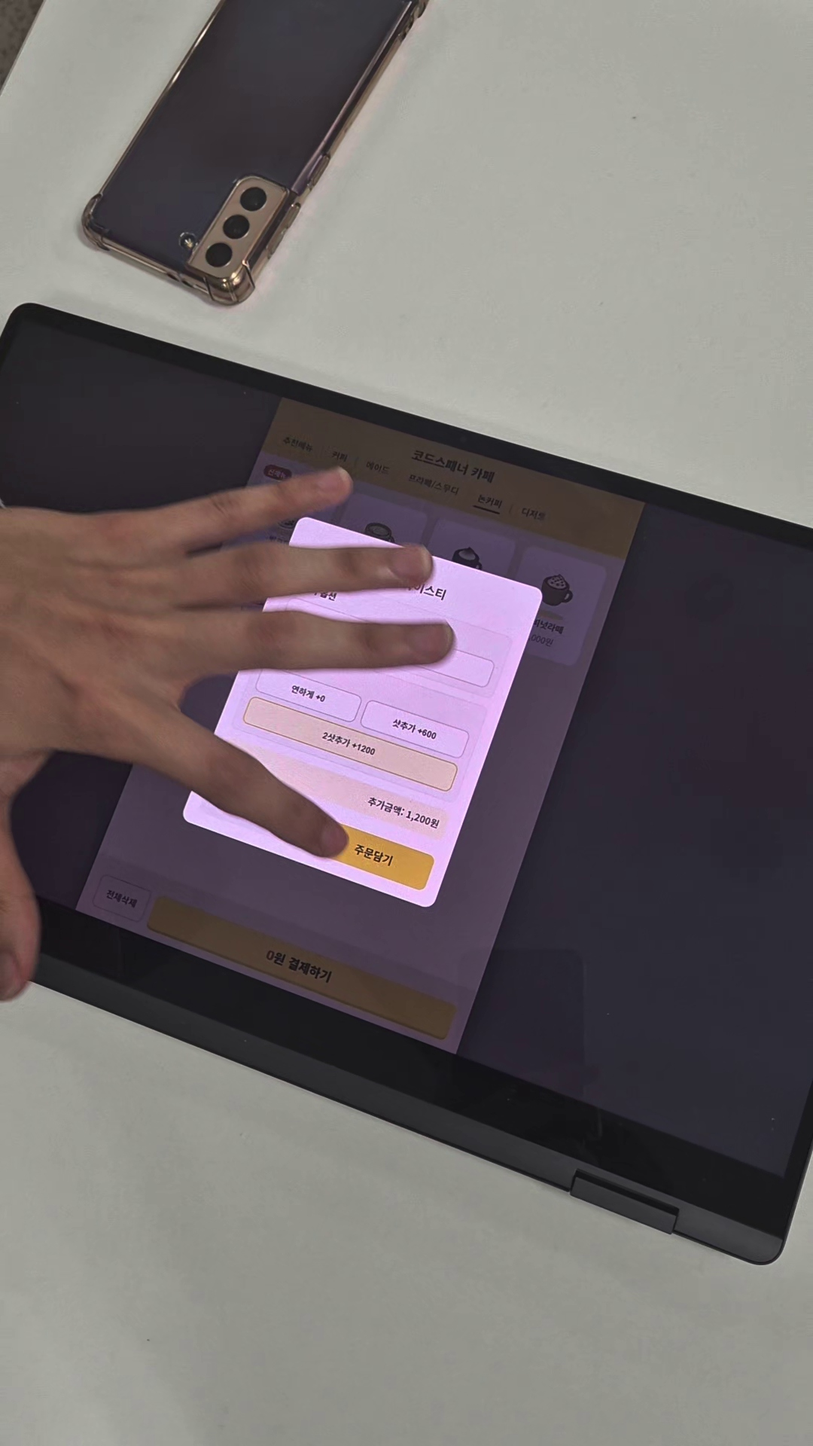action_button: (316, 819, 435, 894)
option_button: (235, 694, 461, 796), (359, 697, 474, 763), (253, 665, 362, 724)
popup_modal: (173, 511, 548, 914)
